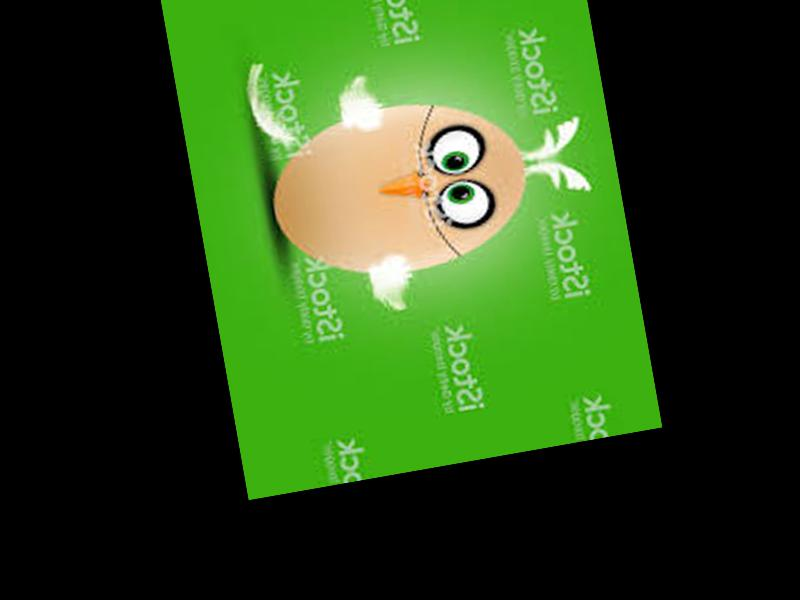Eggs: (257, 85, 539, 290)
